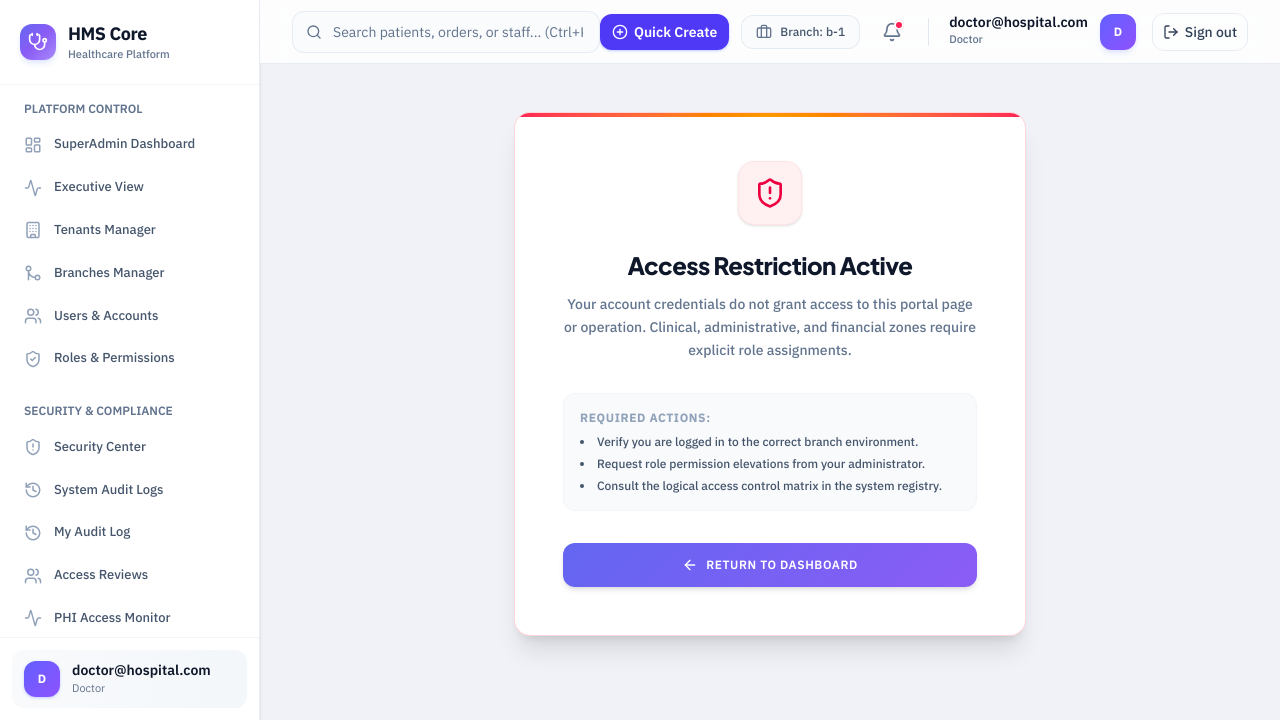
Test case: AppShell — Topbar User Control › shows a confirmation bar when "Sign out" is clicked, but does not yet log out
Click the button with test id "logout-button" at (1200, 32), box x1=1152 y1=12 x2=1248 y2=50
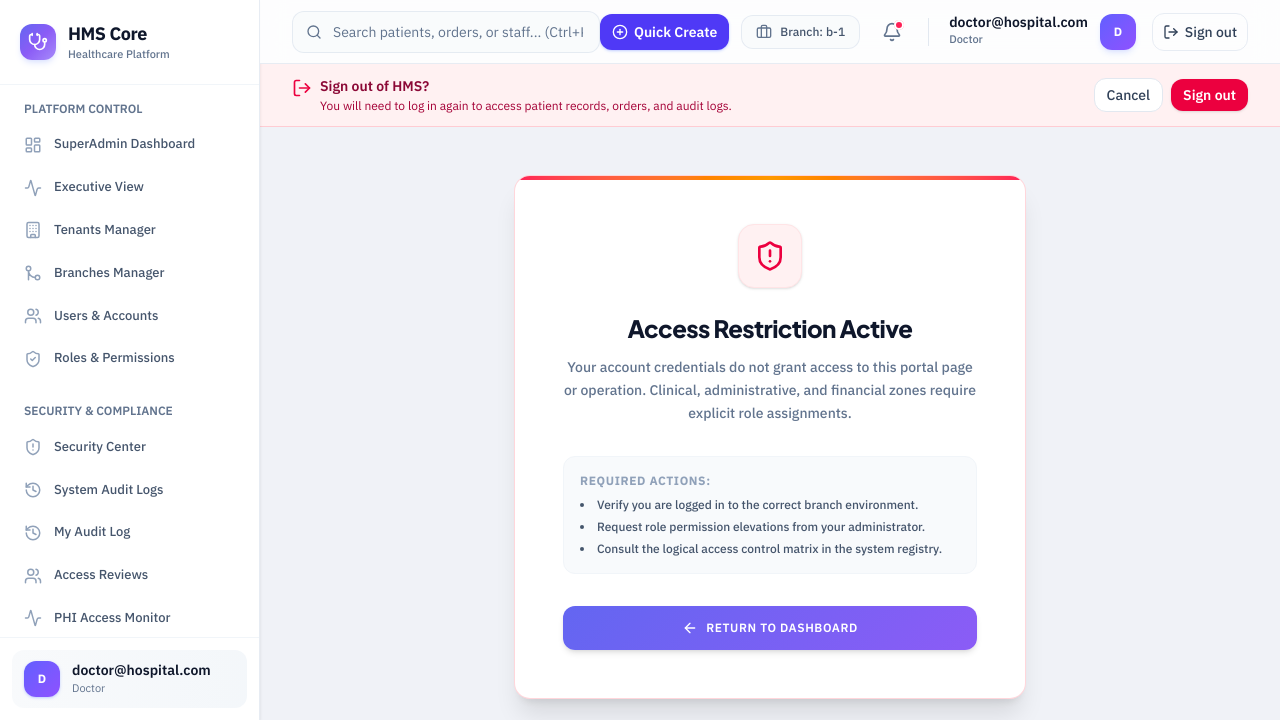
Expected: the dialog with test id "logout-confirm-bar" is shown, x1=260 y1=64 x2=1279 y2=127
